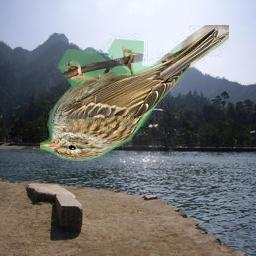Sparrow: (41, 25, 230, 161)
